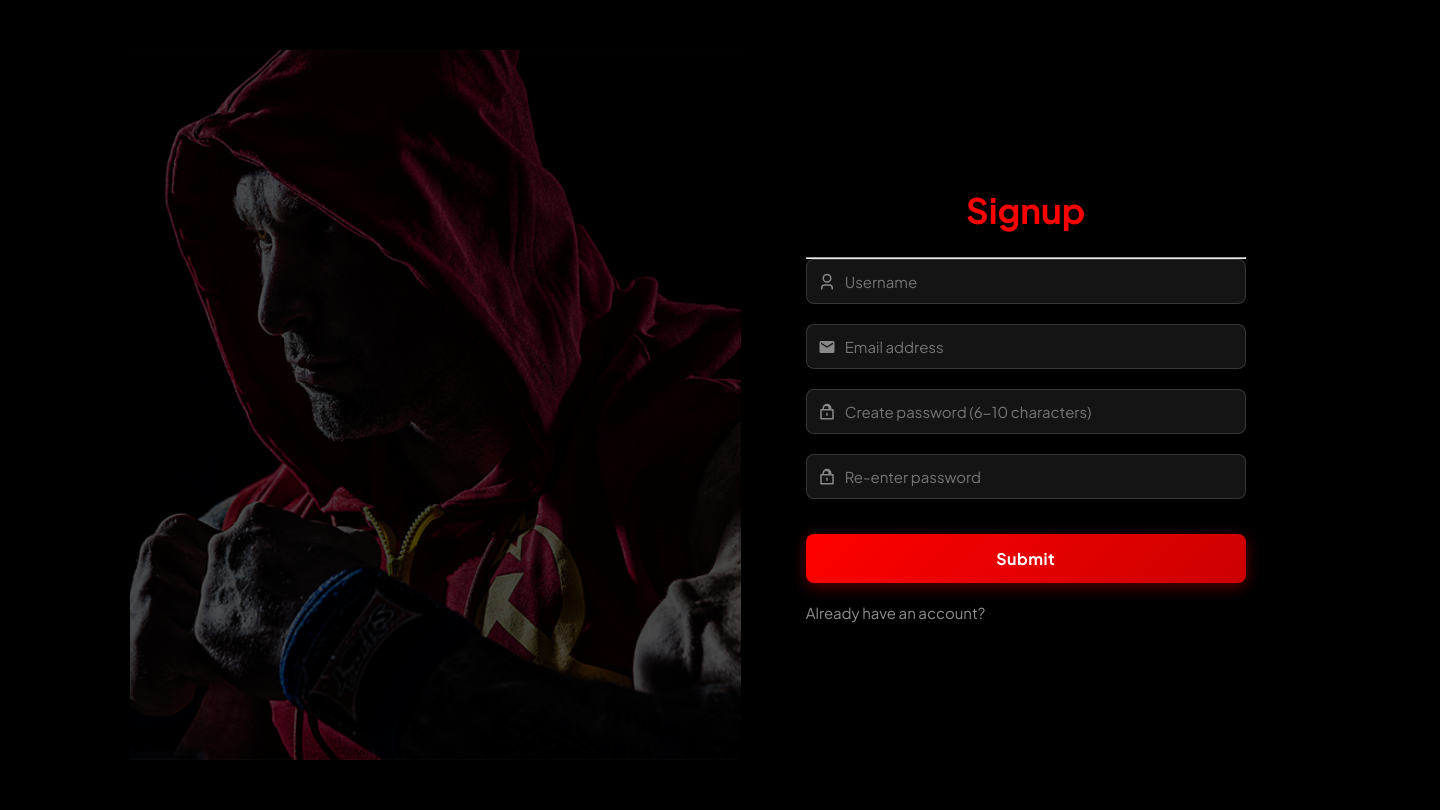
Test: MyFit Frontend Tests (Phase 2 with AuthContext) › Signup component renders inputs and validates mismatched passwords
This screenshot has width=1440, height=810.
Expected: the field with placeholder "Email address" is shown, [806,324,1246,369]
Expected: the button "Submit" is shown, [806,534,1246,583]
Type "newuser" into the field with placeholder "Username" at (1026, 282), box [806,259,1246,304]
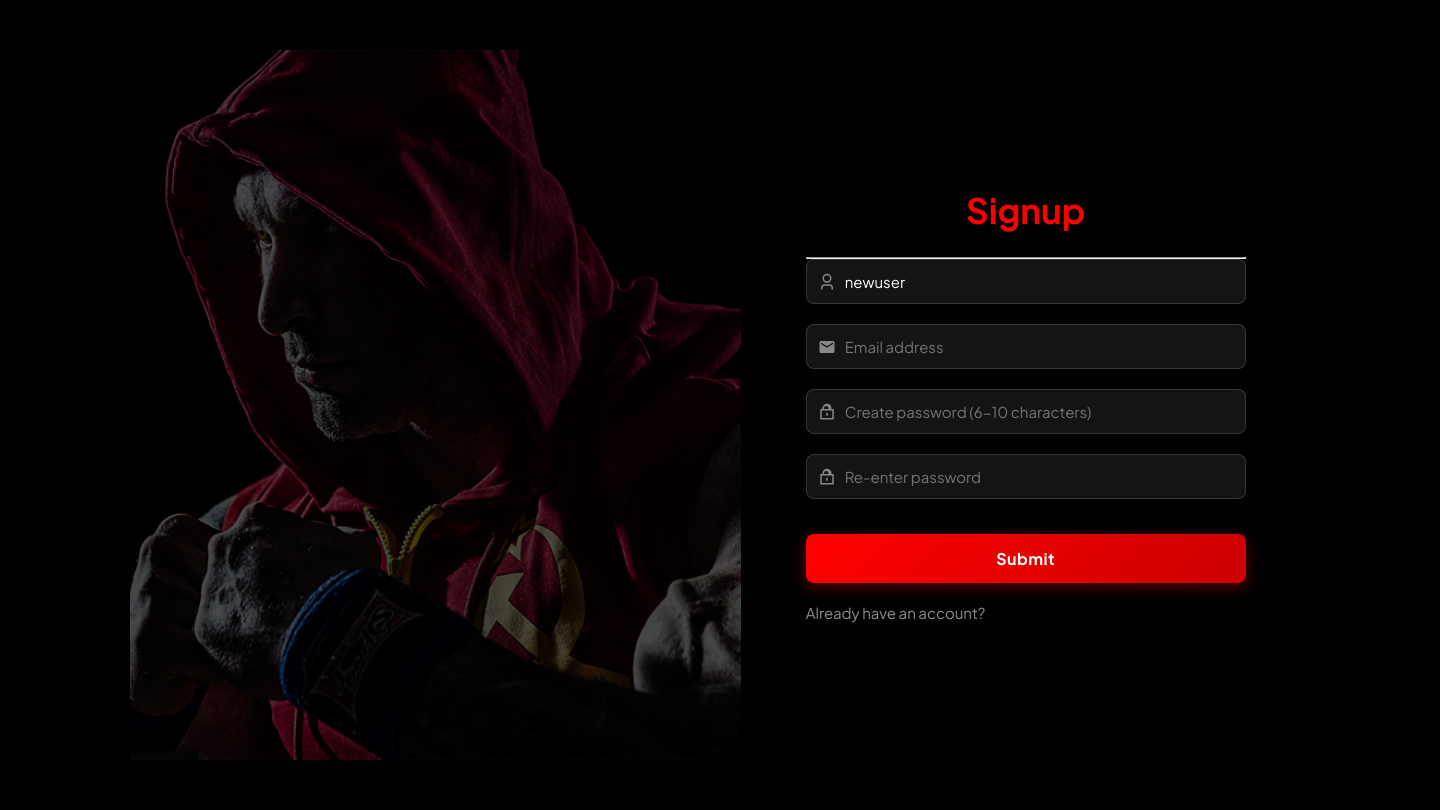
Type "newuser@example.com" into the field with placeholder "Email address" at (1026, 346), box [806,324,1246,369]
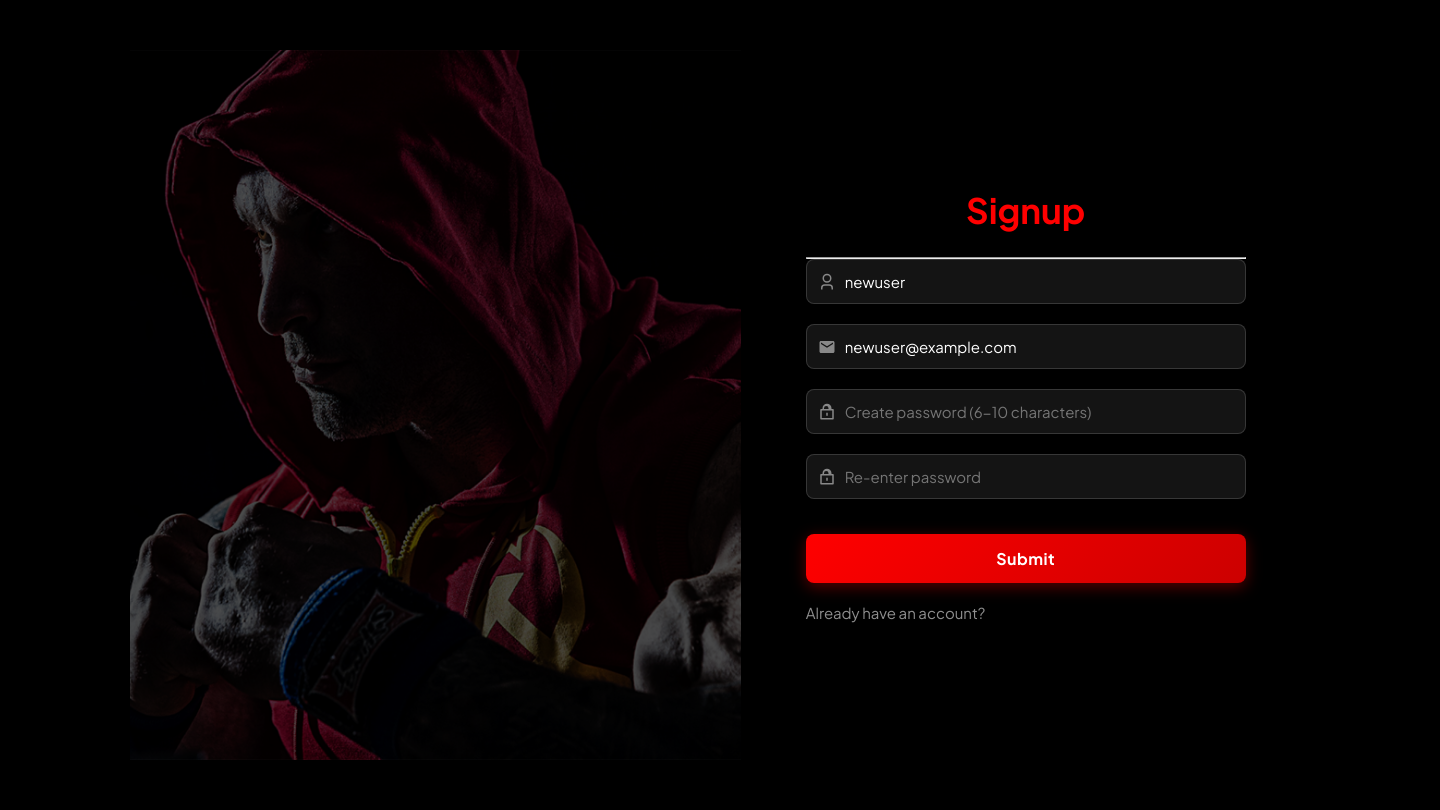
Fill passwords that do not match
Type "Secret1" into the password field with placeholder "Create password (6-10 characters)" at (1026, 412), box [806,389,1246,434]
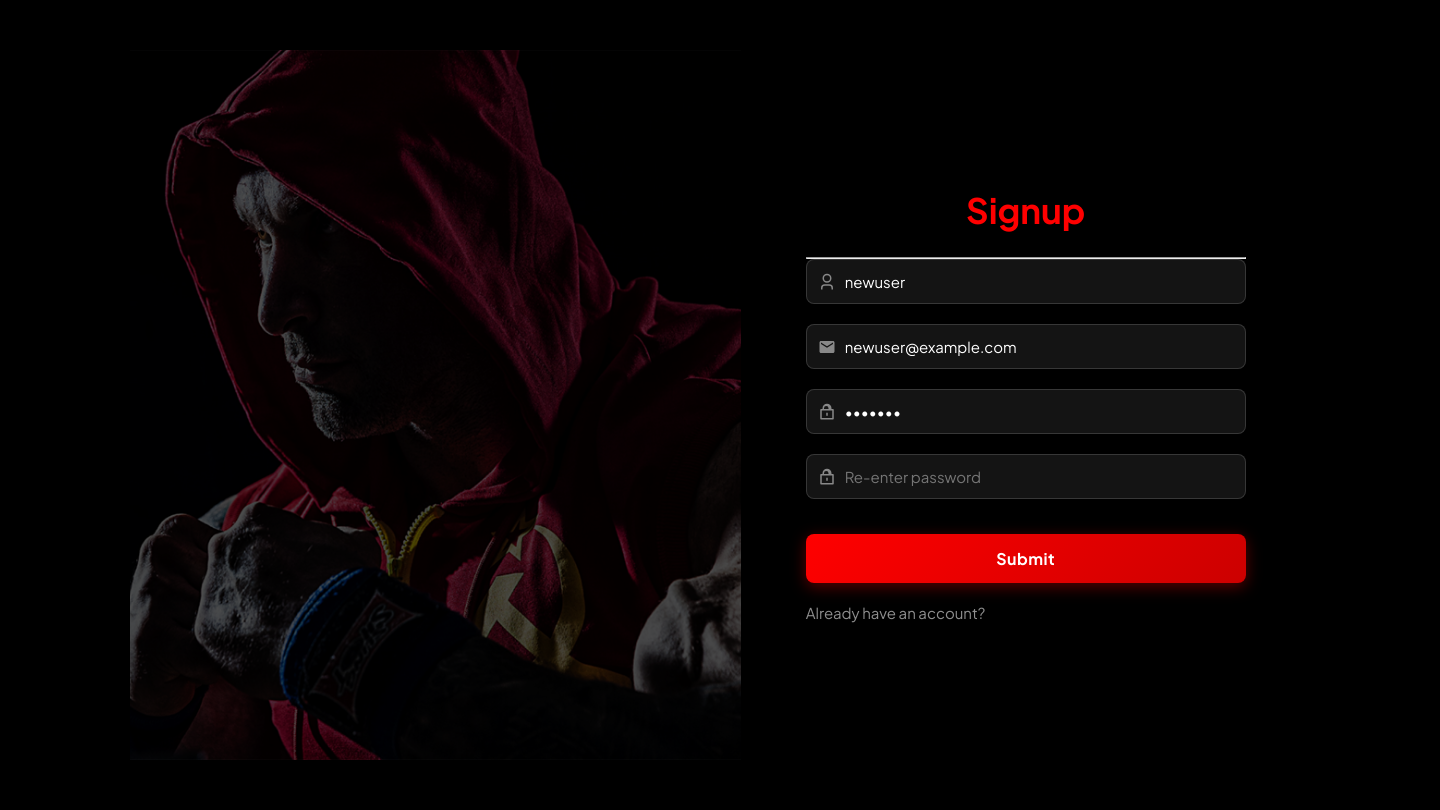
Type "Secret2" into the password field with placeholder "Re-enter password" at (1026, 476), box [806,454,1246,499]
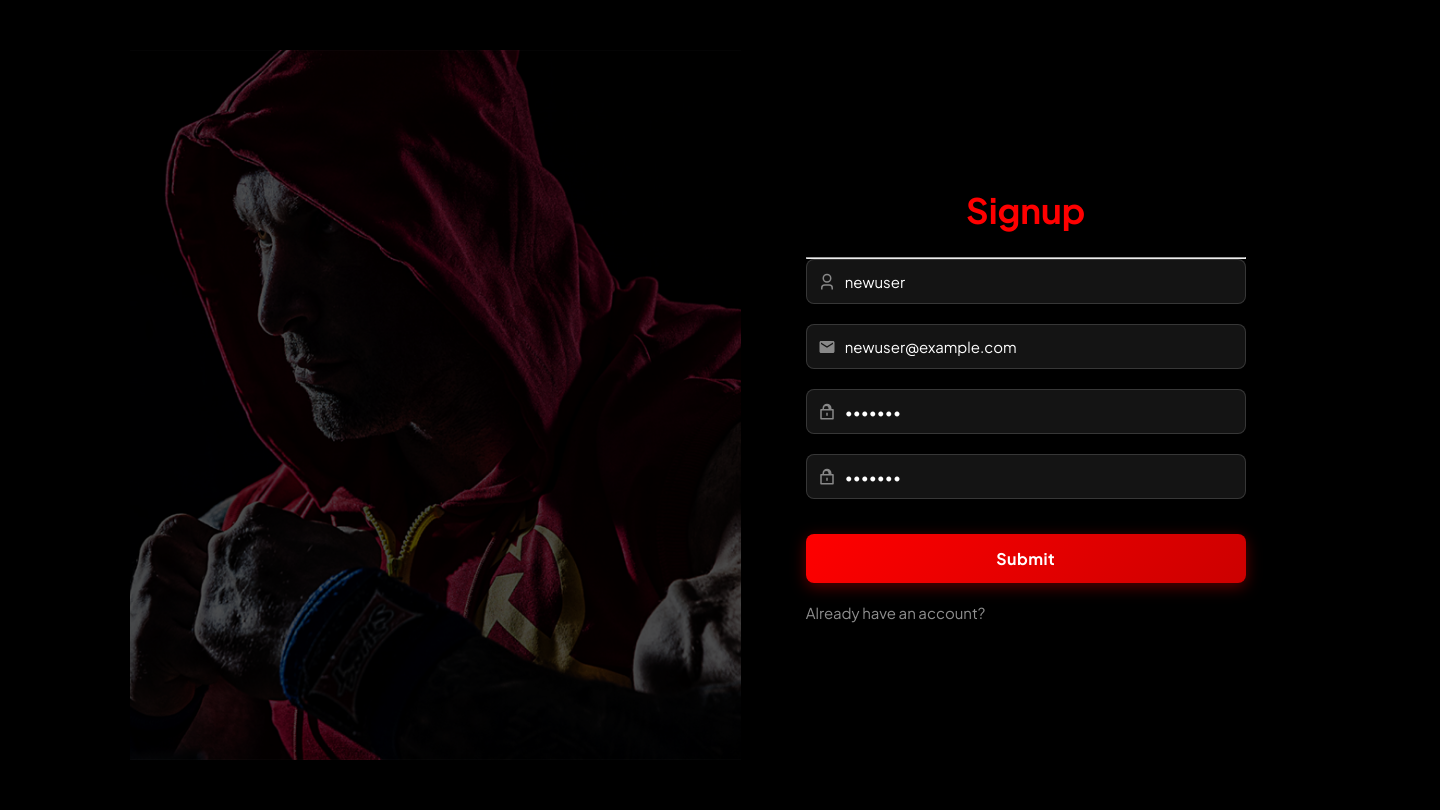
Submit the form "Submit Already have an account?", box [806,259,1246,622]
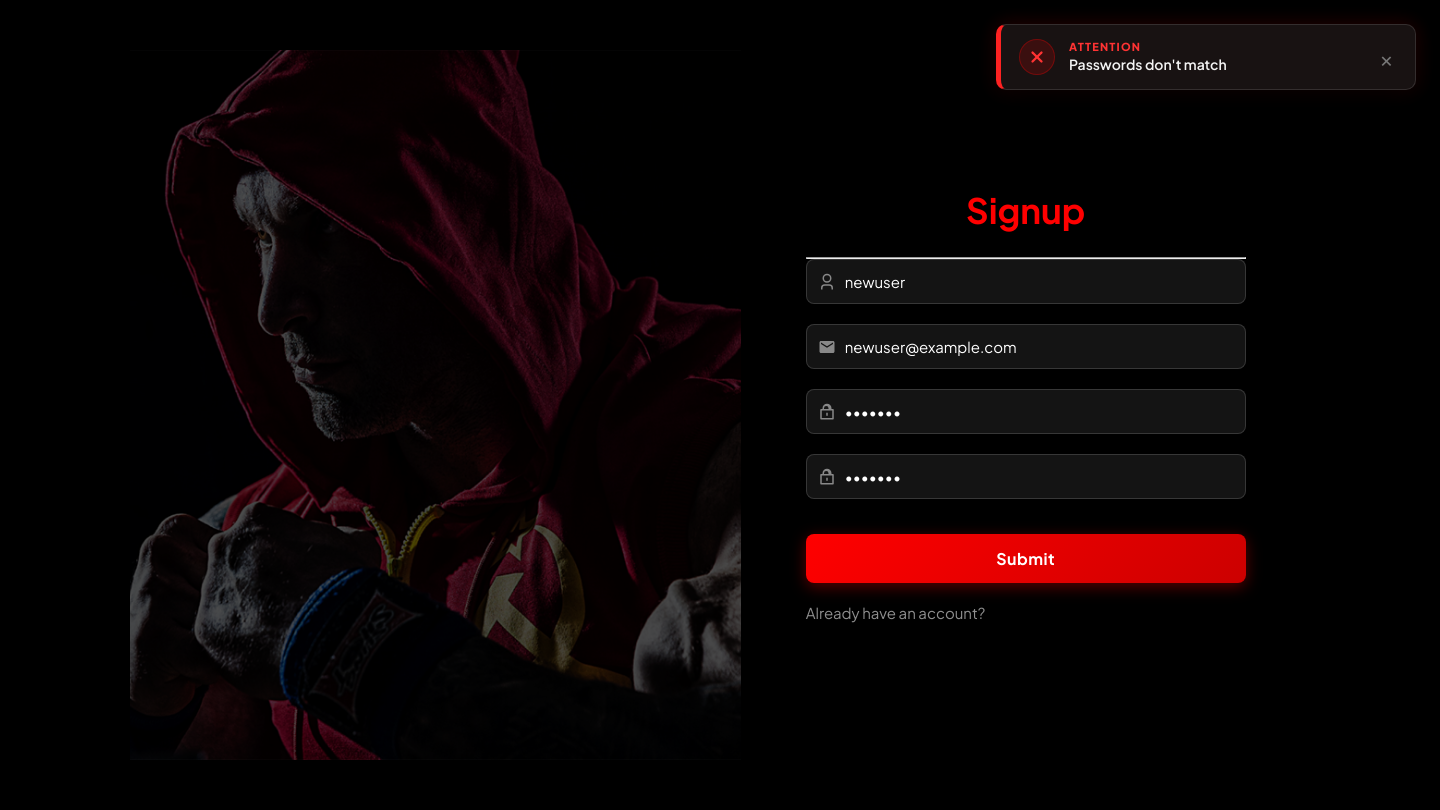
Expected: the text "Passwords don't match" is shown, [1069,55,1227,73]
